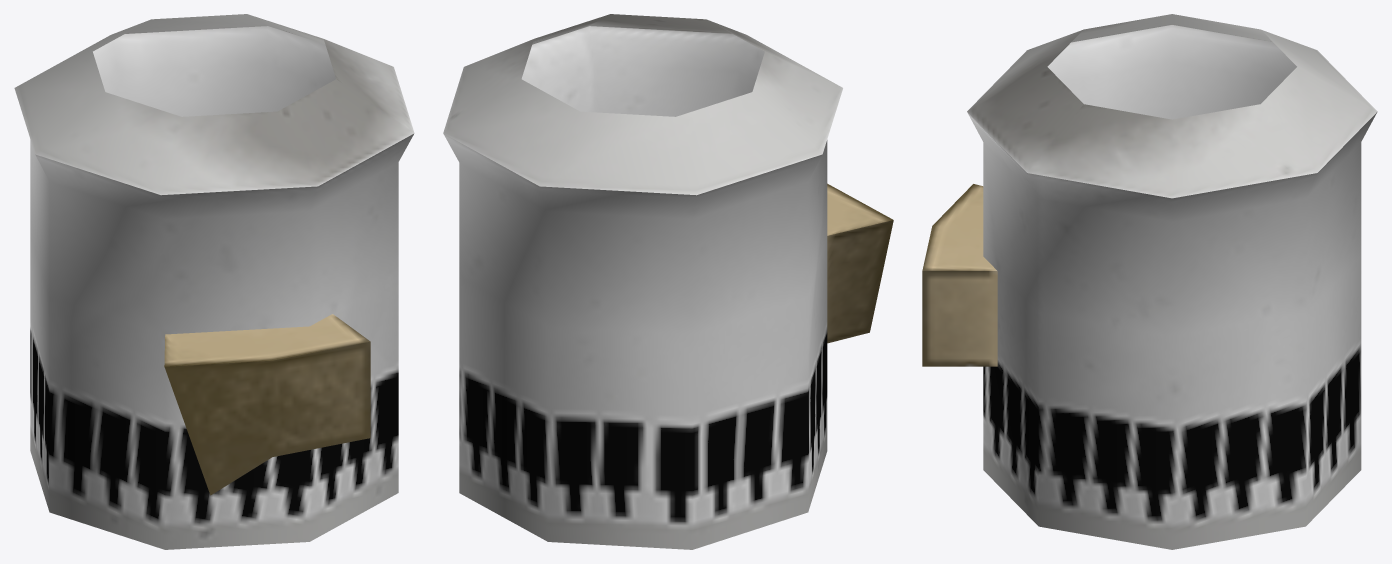
Rendered from big_arm_link_1.dae.
The picture shows the model from 3 angles, left to right: view 1: azimuth 30°, elevation 25°; view 2: azimuth 150°, elevation 25°; view 3: azimuth 270°, elevation 25°; orthographic projection.
Parts seen in each view (by area): view 1: Big Arm_1; view 2: Big Arm_1; view 3: Big Arm_1.
Part boxes in pixels (box(x1,y1,x2,y2)): Big Arm_1: box(14, 14, 414, 549); Big Arm_1: box(443, 14, 893, 549); Big Arm_1: box(922, 14, 1377, 549).
Bounding box in the file's own units: 0.4069 × 0.4511 × 0.4409.
Materials: 1 (1 with a texture image).
